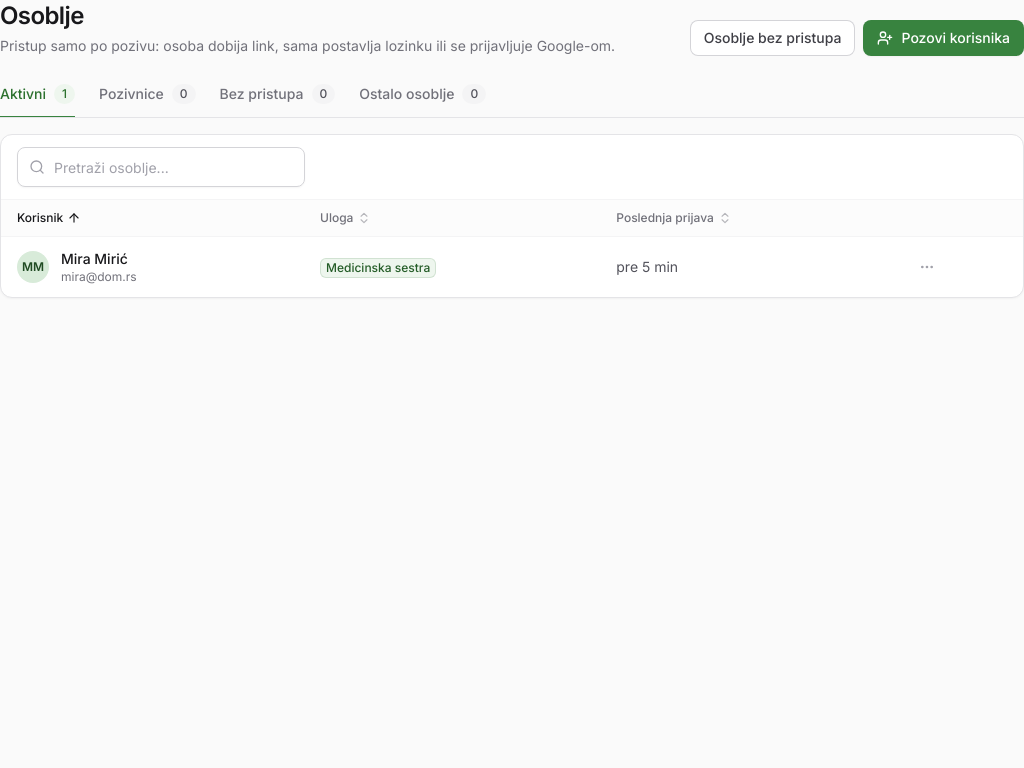
Test: korisnici › adresa suspendovanog korisnika: poruka i 'Vrati pristup' umesto greške
This screenshot has width=1024, height=768.
Later steps or results of the test are not shown.
Click the button "Pozovi korisnika" at (944, 38), box [864, 20, 1023, 56]
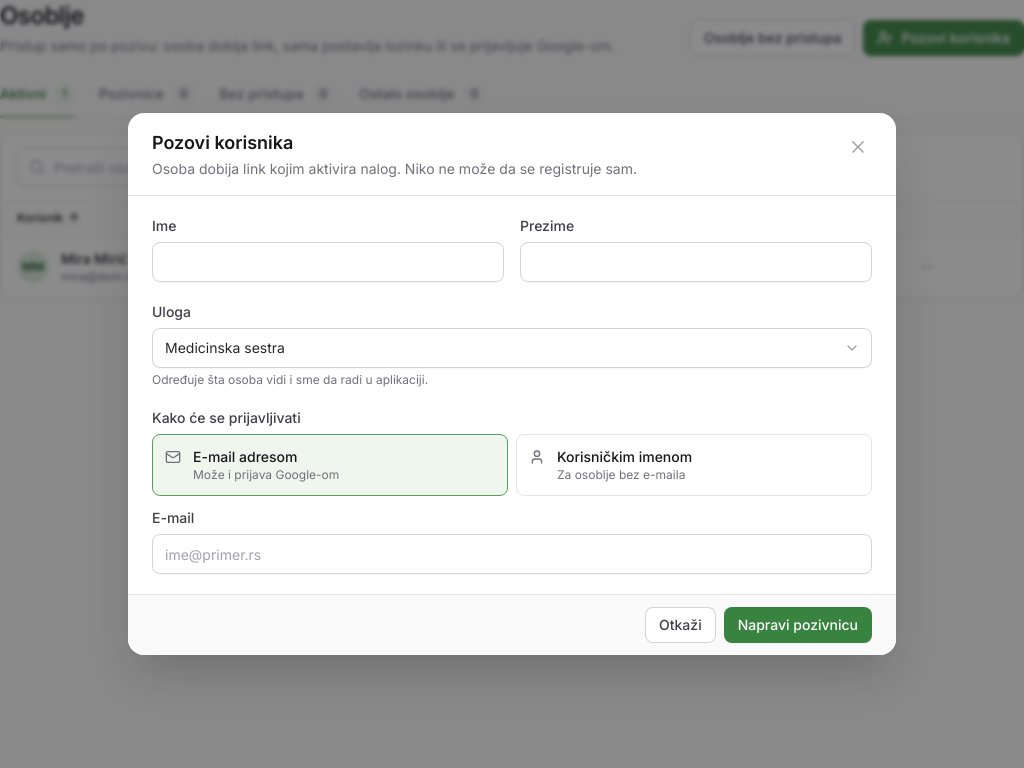
Type "Mira" into the field labelled "Ime" at (328, 262), box [152, 242, 504, 282]
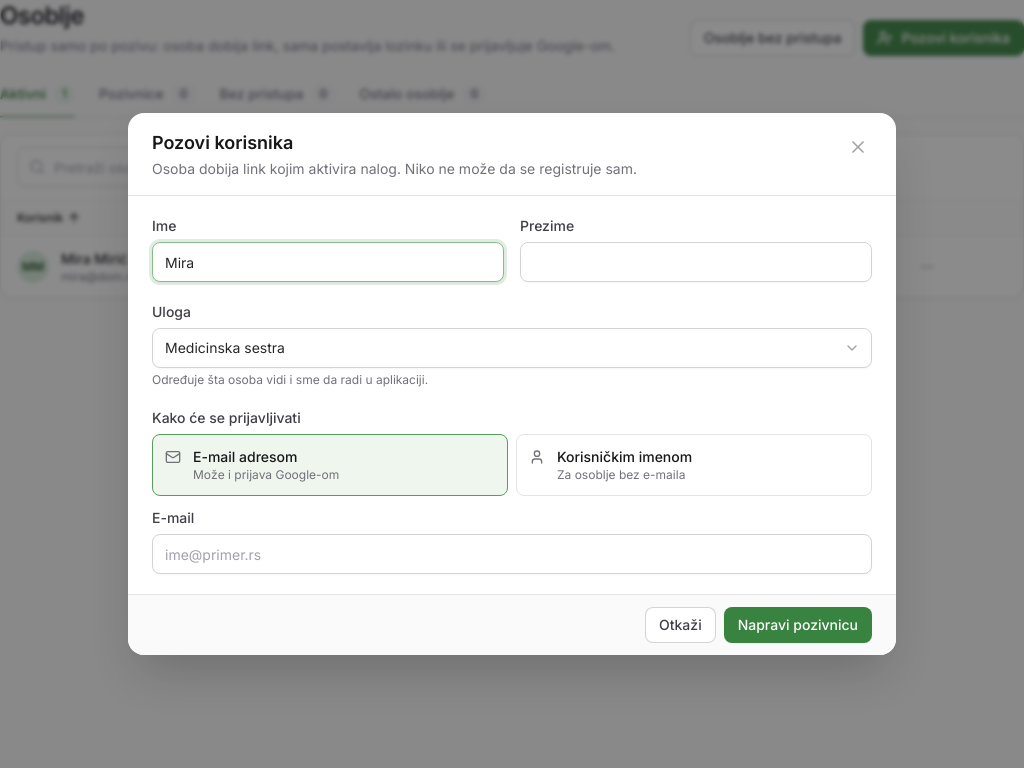
Type "Mirić" into the field labelled "Prezime" at (696, 262), box [520, 242, 872, 282]
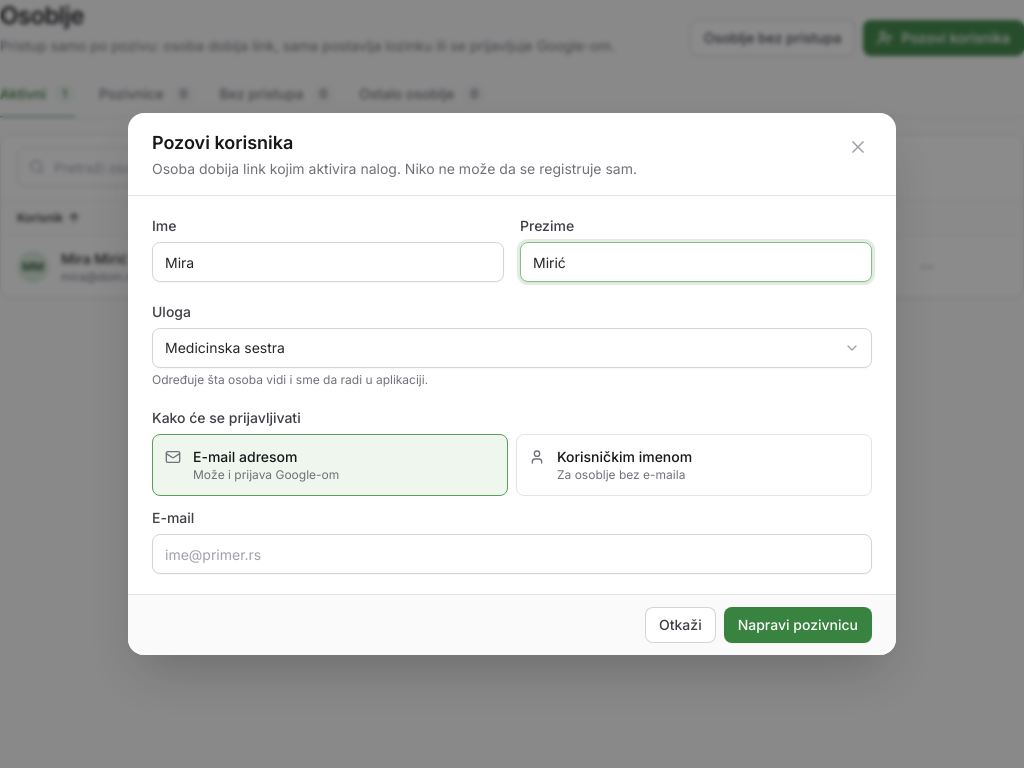
Type "mira@dom.rs" into the field labelled "E-mail" at (512, 554), box [152, 534, 872, 574]
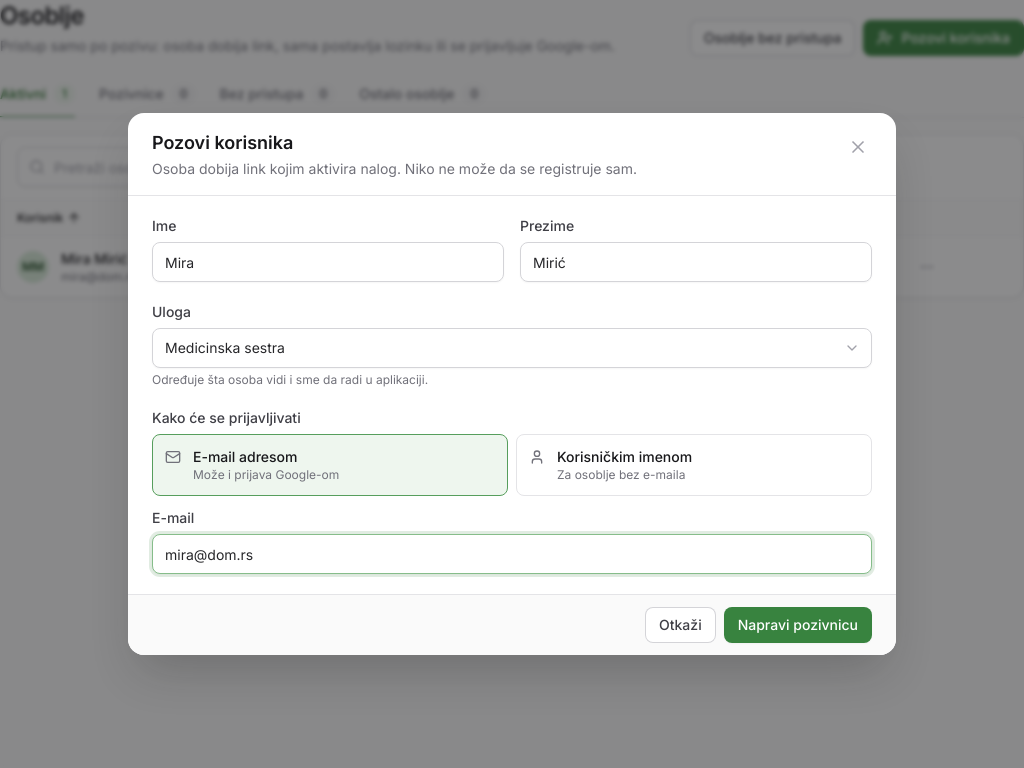
Click the button "Napravi pozivnicu" at (798, 625), box [724, 607, 872, 643]
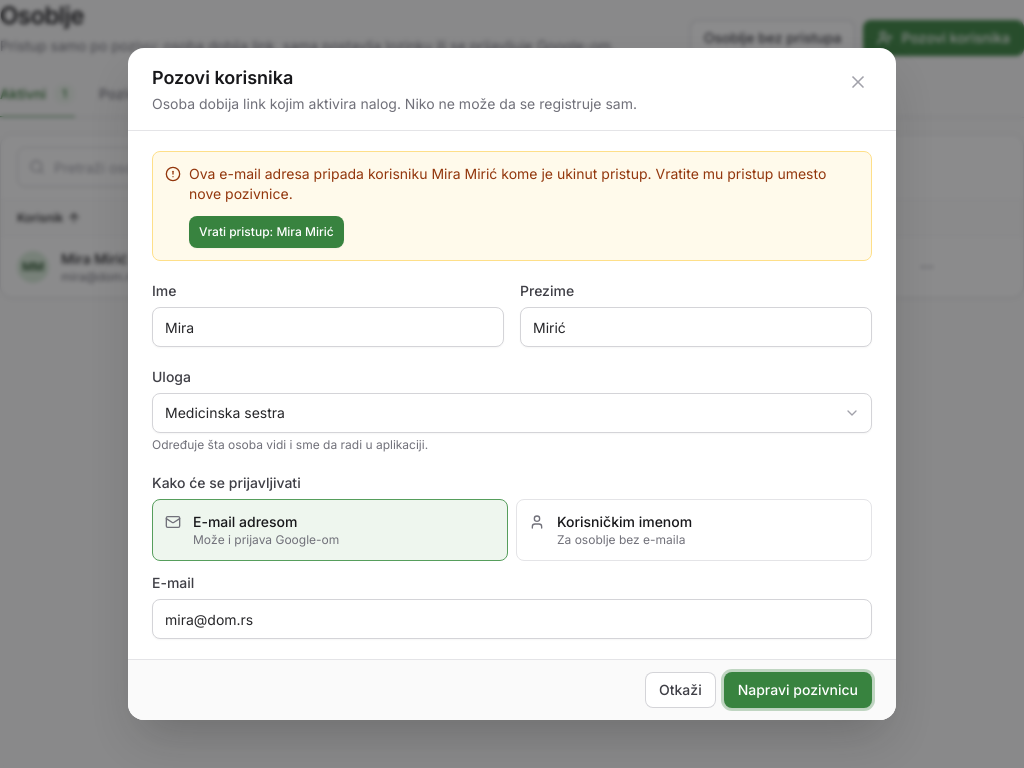
Result: the message shows "kome je ukinut pristup" at [189, 165, 826, 202]
